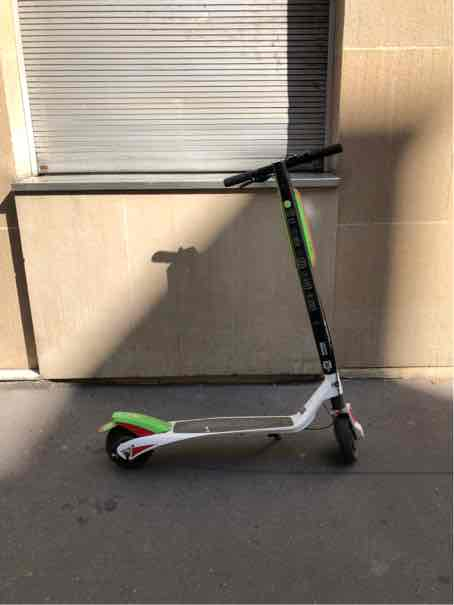scooter: (93, 144, 380, 478)
